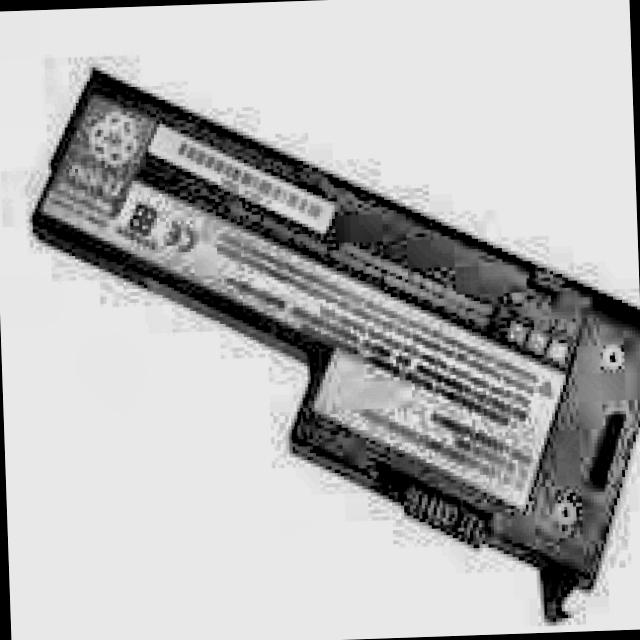Battery: (27, 51, 640, 604)
